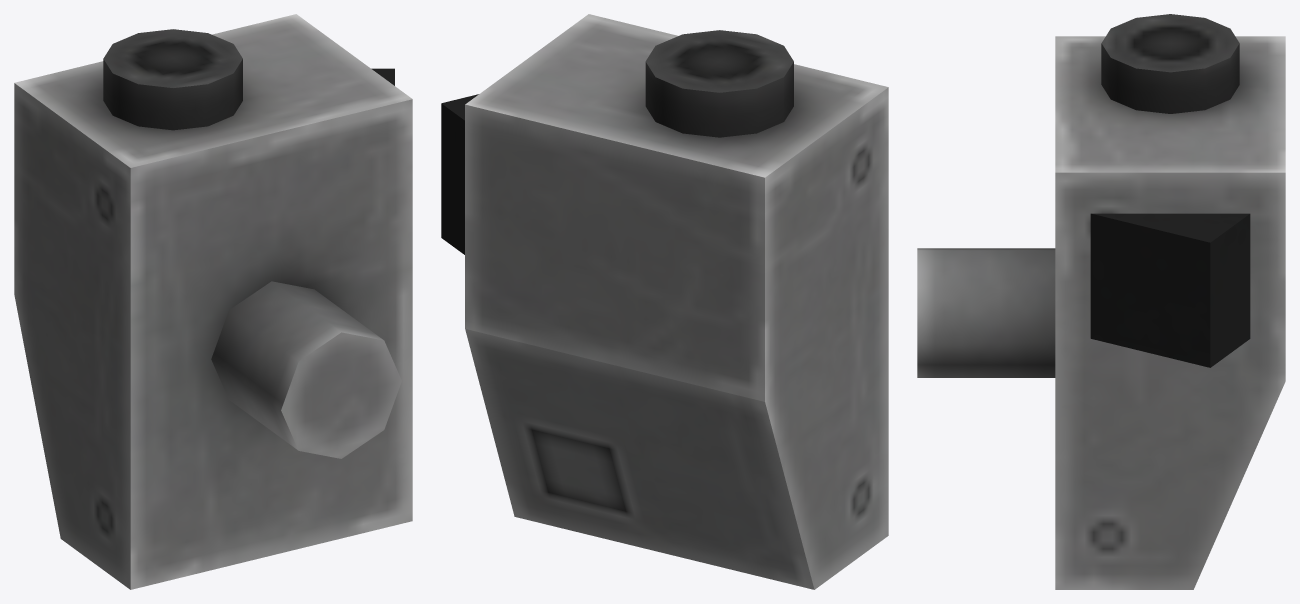
The model's file is 1mv_sensor_cosmis_ray_detector_srf_1.obj.
The picture shows the model from 3 angles, left to right: view 1: azimuth 30°, elevation 25°; view 2: azimuth 150°, elevation 25°; view 3: azimuth 270°, elevation 25°; orthographic projection. The views are drawn at different scales.
Parts seen in each view (by area): view 1: mesh1; view 2: mesh1; view 3: mesh1.
Part boxes in pixels (left/top/right/bottom): mesh1: left=14, top=14, right=412, bottom=589; mesh1: left=441, top=14, right=888, bottom=589; mesh1: left=917, top=14, right=1285, bottom=589.
Size of the model in its own units: 0.2125 by 0.275 by 0.2.
Materials: 1 (1 with a texture image).
